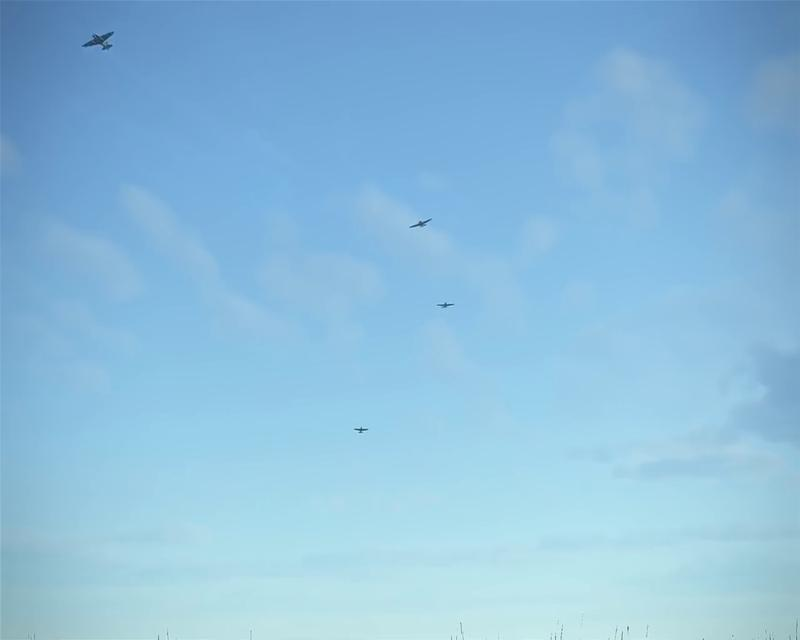UAV: (82, 29, 116, 52), (409, 216, 432, 229), (437, 301, 454, 310), (353, 426, 369, 435)
